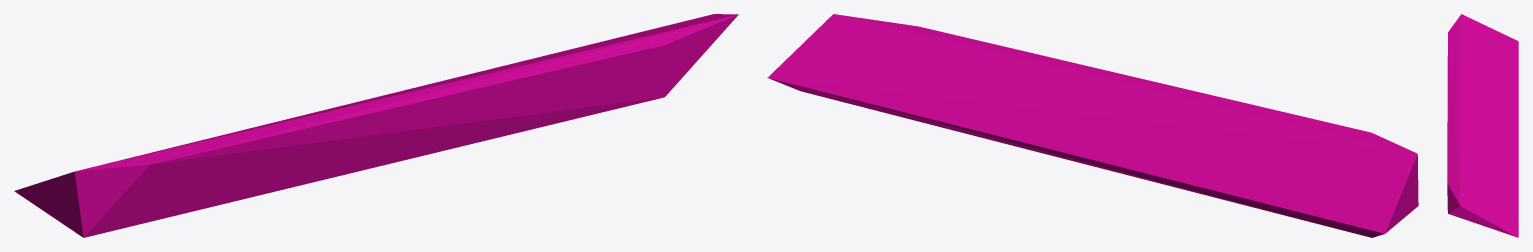
The model's file is organic_bin_convex_piece_005.obj.
3 renders of one model, left to right at view 1: azimuth 30°, elevation 25°; view 2: azimuth 150°, elevation 25°; view 3: azimuth 270°, elevation 25°, orthographic. The views are drawn at different scales.
Size of the model in its own units: 0.2279 by 0.0199 by 0.0344.
